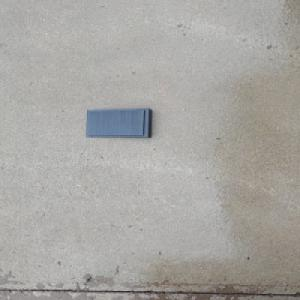PlasticPart: (84, 107, 153, 138)
